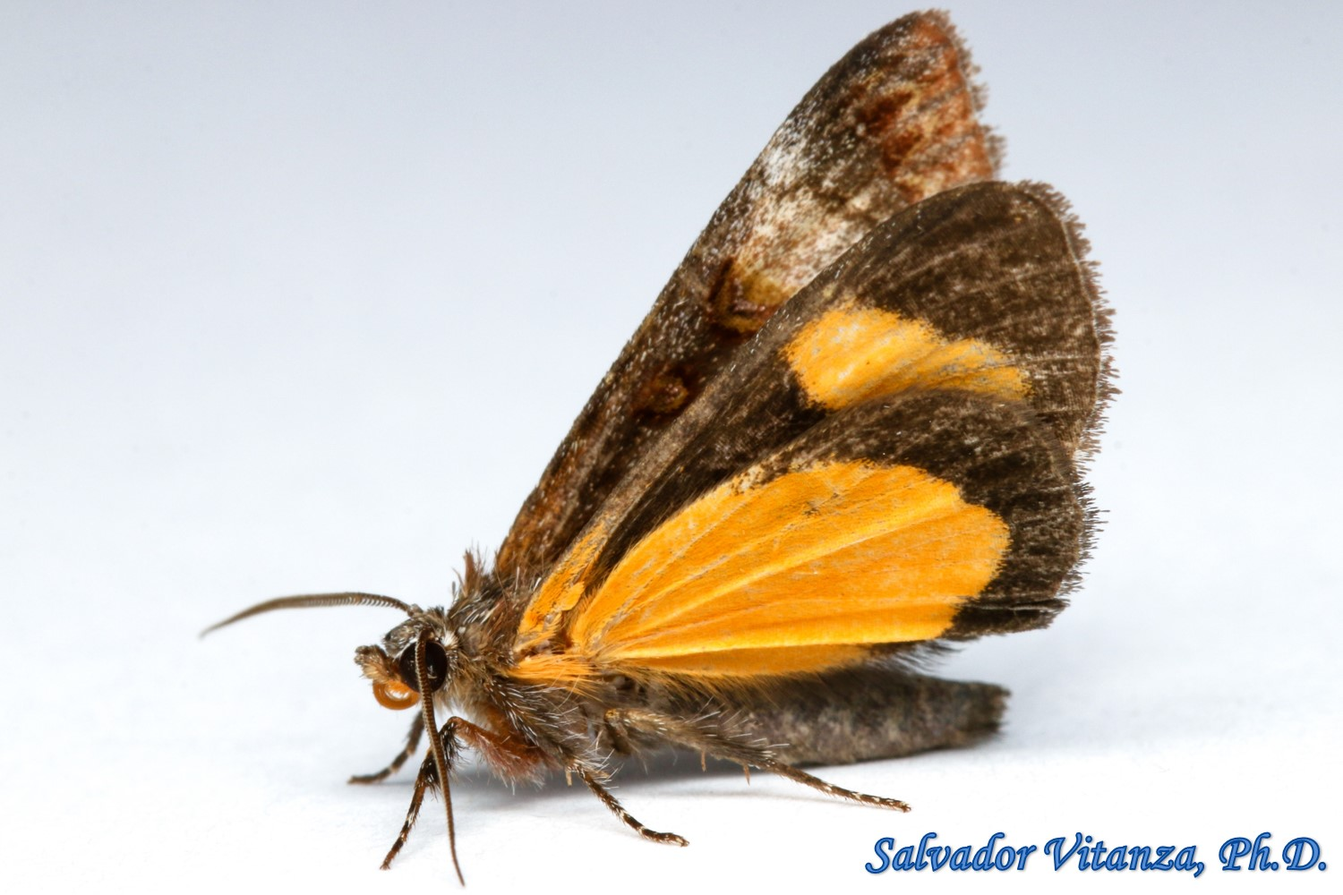Noctuidae: (202, 12, 1121, 884)
